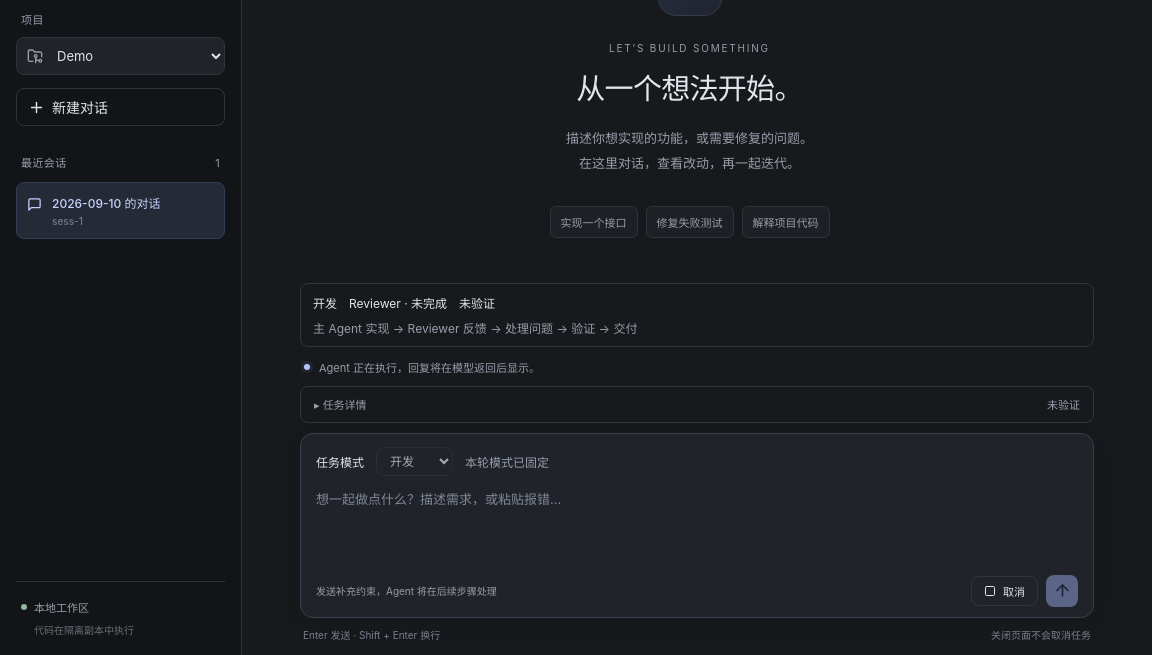
Test case: task modes and review collaboration › updates Reviewer during an open stream and never labels an unavailable empty result clean
This screenshot has width=1152, height=655.
(page scrolled)
Expected: the text "Reviewer · 未完成" is shown, [349,294,447,310]
Click the button "▸ 任务详情 未验证" at (343, 405), box [301,386,1093,422]
(page scrolled)
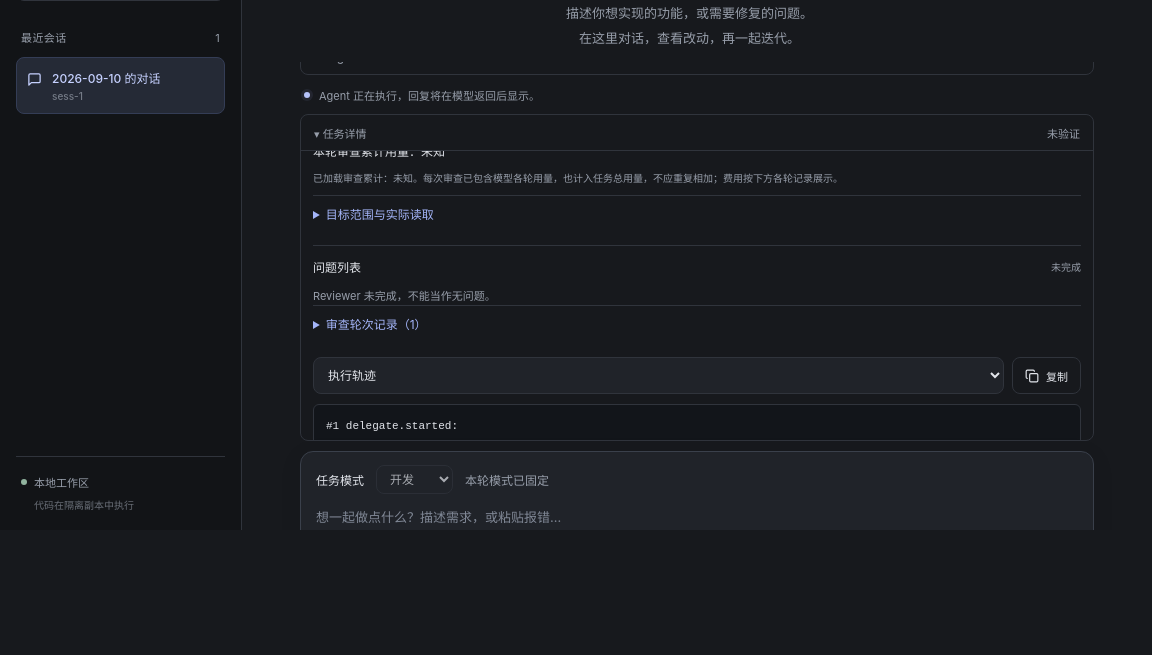
Expected: the text "Reviewer 未完成，不能当作无问题。" is shown, [313,289,496,303]
